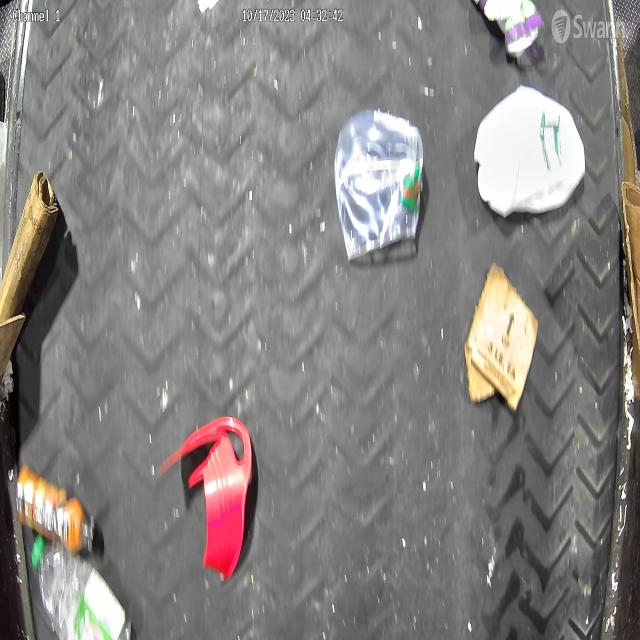milk_jug: (474, 83, 588, 220)
plastic_bottle: (33, 539, 127, 640)
